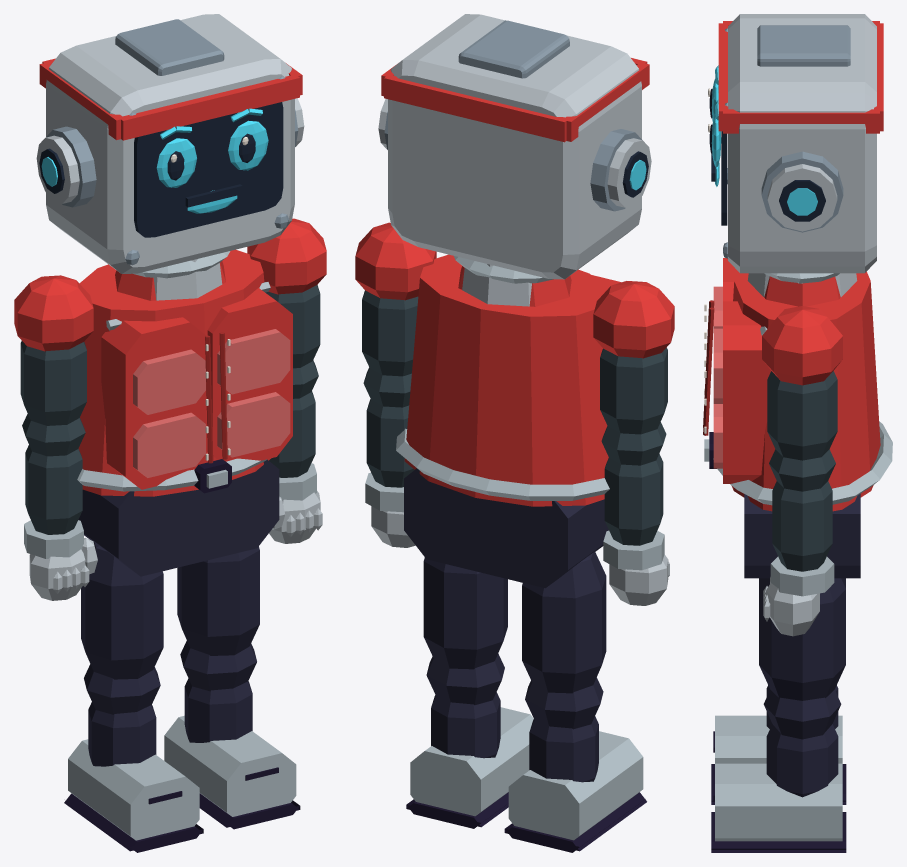
3 renders of one model, left to right at view 1: azimuth 30°, elevation 25°; view 2: azimuth 150°, elevation 25°; view 3: azimuth 270°, elevation 25°, orthographic. The views are drawn at different scales.
Parts seen in each view (by area): view 1: head_fur, torso_padded_vest, torso_vest_quilt, hips_trousers, head_face_panel, thigh_r_trousers, shin_r_trim_belt_boots, shin_l_trim_belt_boots, thigh_l_trousers, shin_r_trousers, forearm_r_shirt_sleeves, shin_l_trousers (+18 smaller); view 2: head_fur, torso_padded_vest, hips_trousers, thigh_r_trousers, shin_r_trim_belt_boots, thigh_l_trousers, shin_l_trim_belt_boots, forearm_r_shirt_sleeves, shin_r_trousers, shin_l_trousers, head_padded_vest, head_shell_edge (+13 smaller); view 3: head_fur, torso_padded_vest, shin_l_trim_belt_boots, thigh_l_trousers, forearm_l_shirt_sleeves, shin_l_trousers, head_shell_edge, upperarm_l_shirt_sleeves, upperarm_l_padded_vest, hips_trousers, head_padded_vest, shin_r_trim_belt_boots (+10 smaller).
Boxes of the visible parts, x1,y1,x2,y2 form: head_fur: (36,14,304,273); torso_padded_vest: (78,249,292,496); torso_vest_quilt: (133,329,290,477); hips_trousers: (78,459,279,576); head_face_panel: (39,102,283,237); thigh_r_trousers: (81,542,163,679); shin_r_trim_belt_boots: (68,739,199,840); shin_l_trim_belt_boots: (164,715,296,816); thigh_l_trousers: (177,546,259,655); shin_r_trousers: (84,664,160,766); forearm_r_shirt_sleeves: (22,414,85,534); shin_l_trousers: (180,640,256,742); head_fur: (378,14,651,279); torso_padded_vest: (404,254,621,506); hips_trousers: (404,468,608,588); thigh_r_trousers: (522,551,606,693); shin_r_trim_belt_boots: (508,731,643,840); thigh_l_trousers: (423,557,507,669); shin_l_trim_belt_boots: (410,707,533,816); forearm_r_shirt_sleeves: (601,422,666,545); shin_r_trousers: (525,677,603,782); shin_l_trousers: (426,653,504,758); head_padded_vest: (381,58,649,142); head_shell_edge: (384,20,642,211); head_fur: (728,14,876,273); torso_padded_vest: (723,258,880,511); shin_l_trim_belt_boots: (715,763,842,841); thigh_l_trousers: (759,578,845,700); forearm_l_shirt_sleeves: (769,449,835,571); shin_l_trousers: (763,689,841,797); head_shell_edge: (723,25,850,258); upperarm_l_shirt_sleeves: (767,371,837,460); upperarm_l_padded_vest: (762,306,842,385); hips_trousers: (744,494,860,578); head_padded_vest: (718,21,883,133); shin_r_trim_belt_boots: (715,715,842,763).
Bounding box in the file's own units: 0.7607 × 1.8 × 0.401.
